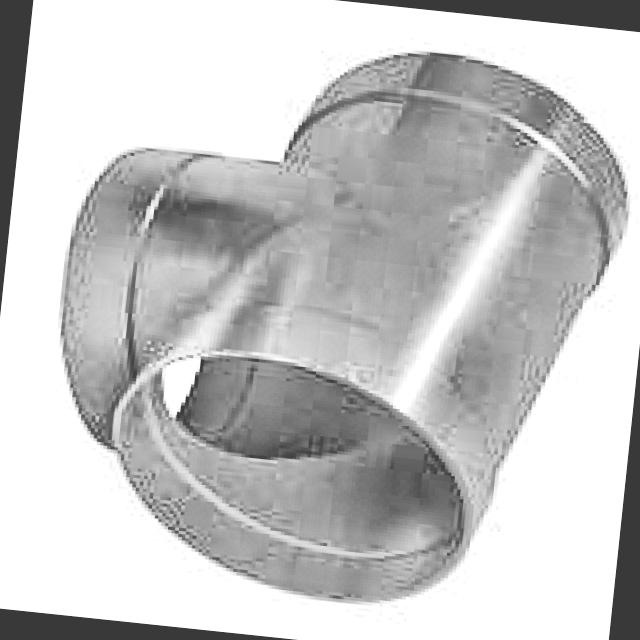EQUALTEE: (57, 48, 629, 604)
